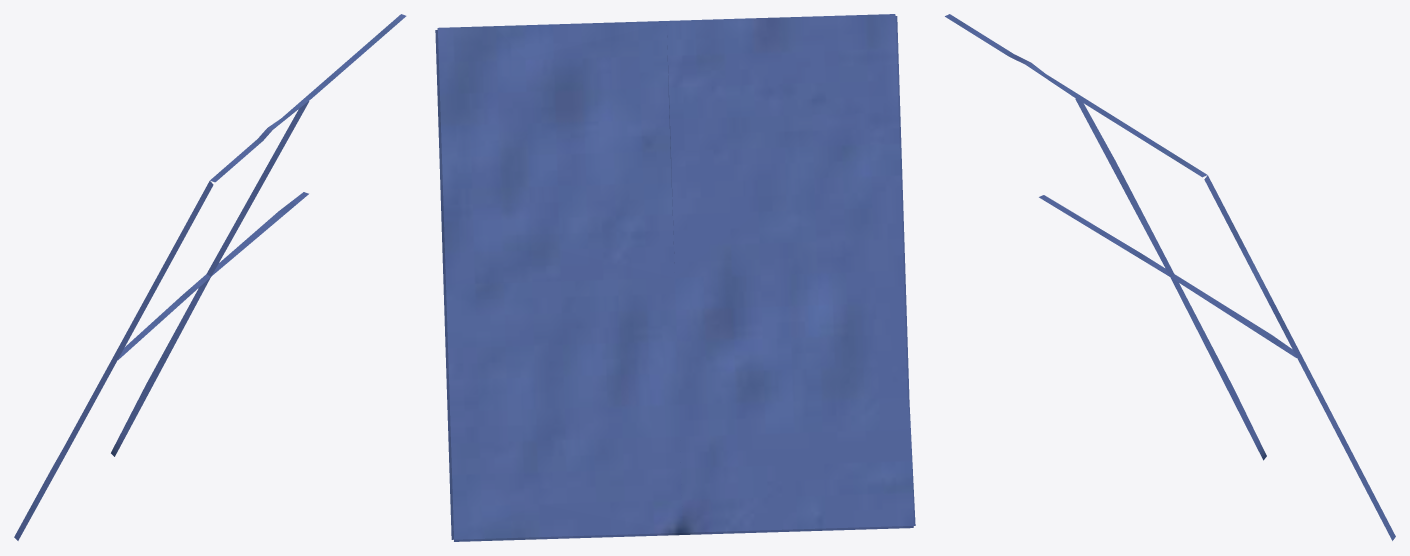
3 views of the same model, side by side, from view 1: azimuth 30°, elevation 25°; view 2: azimuth 150°, elevation 25°; view 3: azimuth 270°, elevation 25° (orthographic). The views are drawn at different scales.
Size of the model in its own units: 78745 by 70951 by 69103.
1 material, 1 textured.
